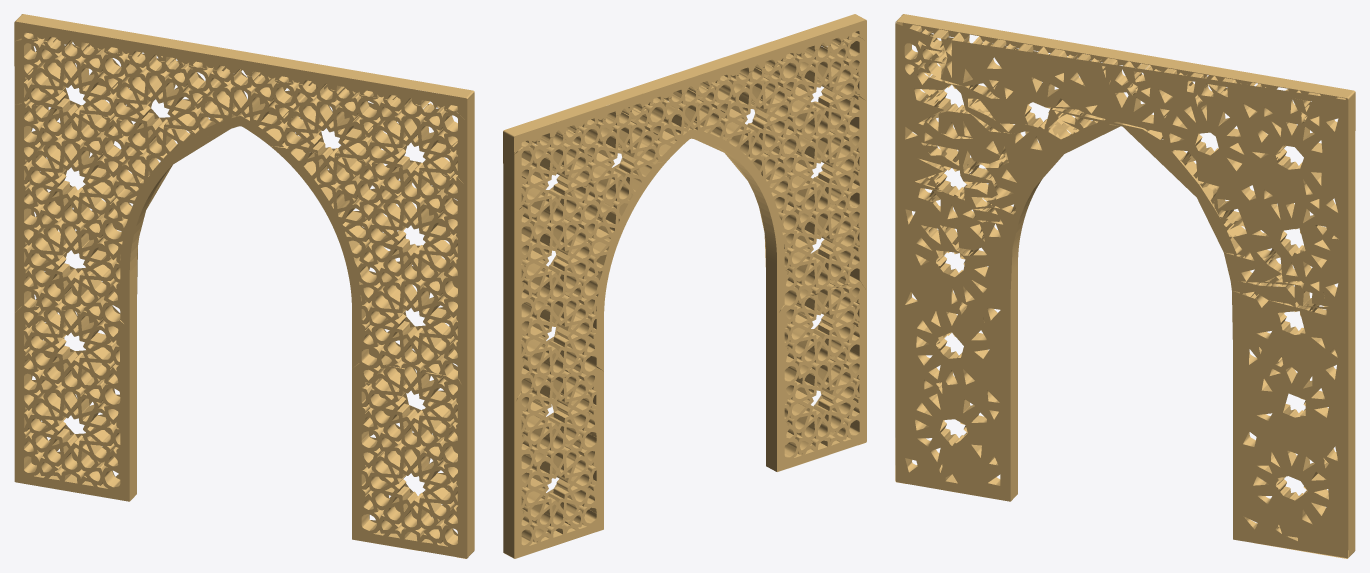
File: doors.glb
3 renders of one model, left to right at view 1: azimuth 90°, elevation 25°; view 2: azimuth 150°, elevation 25°; view 3: azimuth 270°, elevation 25°, orthographic. The views are drawn at different scales.
Parts seen in each view (by area): view 1: Curve.005; view 2: Curve.005; view 3: Curve.005.
Boxes of the visible parts, bbox=[...] form: Curve.005: bbox=[14, 14, 474, 558]; Curve.005: bbox=[503, 14, 866, 558]; Curve.005: bbox=[895, 14, 1355, 558].
Bounding box in the file's own units: 0.4133 × 1.05 × 0.9491.
